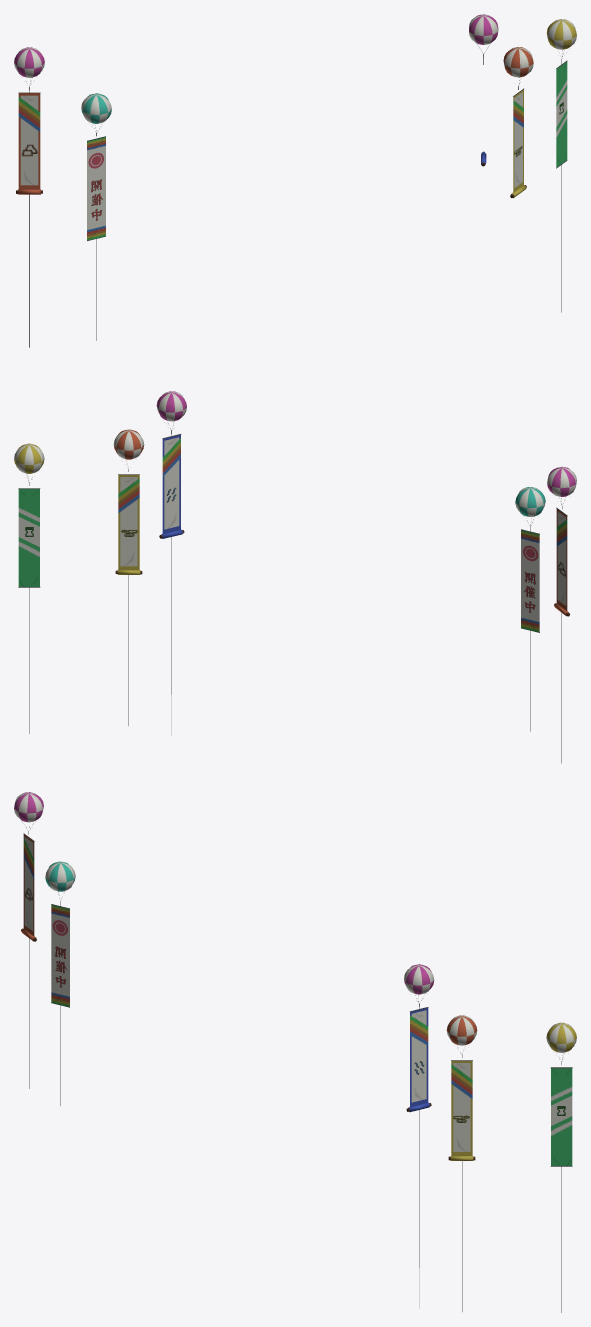
File: SM_ENV_LKNVLD_Event_Balloon_B.FBX
The picture shows the model from 3 angles, top to bottom: view 1: azimuth 30°, elevation 25°; view 2: azimuth 150°, elevation 25°; view 3: azimuth 330°, elevation 25°; orthographic projection.
Parts seen in each view (by area): view 1: SM_ENV_LKNVLD_Event_Balloon_B; view 2: SM_ENV_LKNVLD_Event_Balloon_B; view 3: SM_ENV_LKNVLD_Event_Balloon_B.
Boxes of the visible parts, box(x1,y1,x2,y2) form: SM_ENV_LKNVLD_Event_Balloon_B: box(14, 14, 576, 347); SM_ENV_LKNVLD_Event_Balloon_B: box(14, 391, 576, 763); SM_ENV_LKNVLD_Event_Balloon_B: box(14, 792, 576, 1312).
Bounding box in the file's own units: 9494 × 6410 × 1410.
